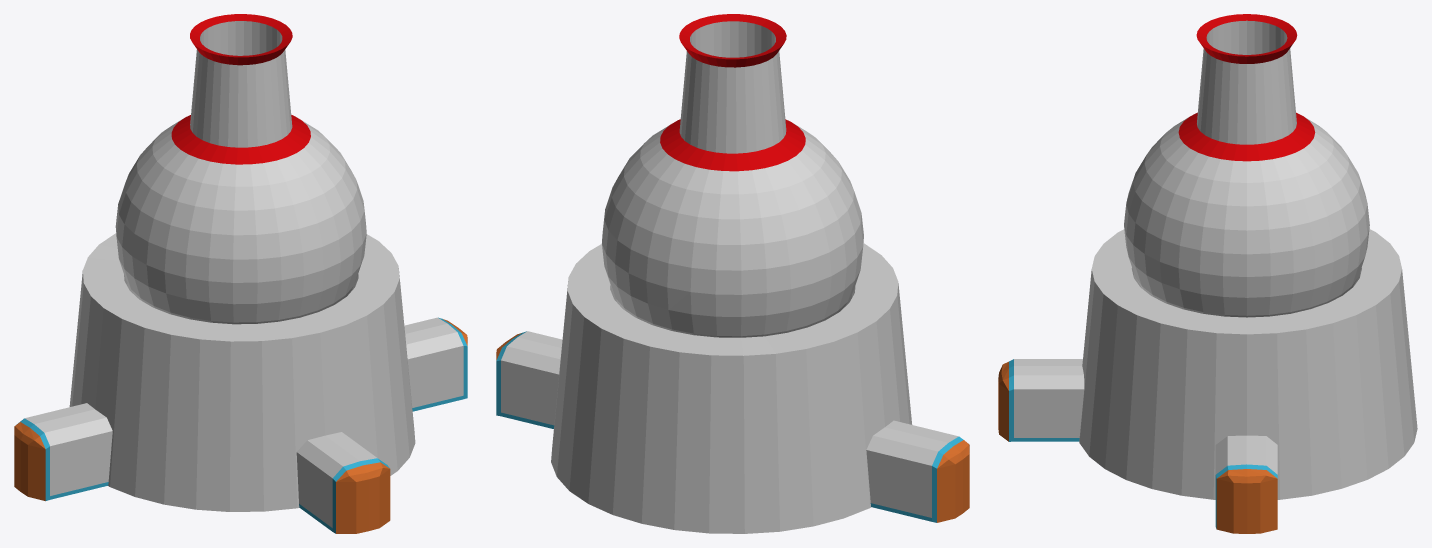
The model's file is moon_base.gltf.
3 views of the same model, side by side, from view 1: azimuth 30°, elevation 25°; view 2: azimuth 150°, elevation 25°; view 3: azimuth 270°, elevation 25° (orthographic). The views are drawn at different scales.
Visible parts, largest first — view 1: Cylinder_Cylinder_Main.001, Sphere_Sphere_Main, Cylinder_Cylinder_AirLock, Sphere_Sphere_RedTip, Cylinder_Cylinder_Lining; view 2: Cylinder_Cylinder_Main.001, Sphere_Sphere_Main, Sphere_Sphere_RedTip, Cylinder_Cylinder_AirLock, Cylinder_Cylinder_Lining; view 3: Cylinder_Cylinder_Main.001, Sphere_Sphere_Main, Sphere_Sphere_RedTip, Cylinder_Cylinder_AirLock, Cylinder_Cylinder_Lining.
Part boxes in pixels (x1,y1,x2,y2): Cylinder_Cylinder_Main.001: (25,233,463,527); Sphere_Sphere_Main: (115,21,366,324); Cylinder_Cylinder_AirLock: (14,319,467,533); Sphere_Sphere_RedTip: (171,14,310,164); Cylinder_Cylinder_Lining: (16,317,467,533); Cylinder_Cylinder_Main.001: (501,243,958,533); Sphere_Sphere_Main: (602,21,863,337); Sphere_Sphere_RedTip: (660,14,805,171); Cylinder_Cylinder_AirLock: (496,333,969,522); Cylinder_Cylinder_Lining: (496,331,963,522); Cylinder_Cylinder_Main.001: (1014,229,1417,499); Sphere_Sphere_Main: (1124,20,1369,317); Sphere_Sphere_RedTip: (1178,14,1315,161); Cylinder_Cylinder_AirLock: (998,361,1277,533); Cylinder_Cylinder_Lining: (1009,359,1277,528).
Bounding box in the file's own units: 2.91 × 2.55 × 2.46.
